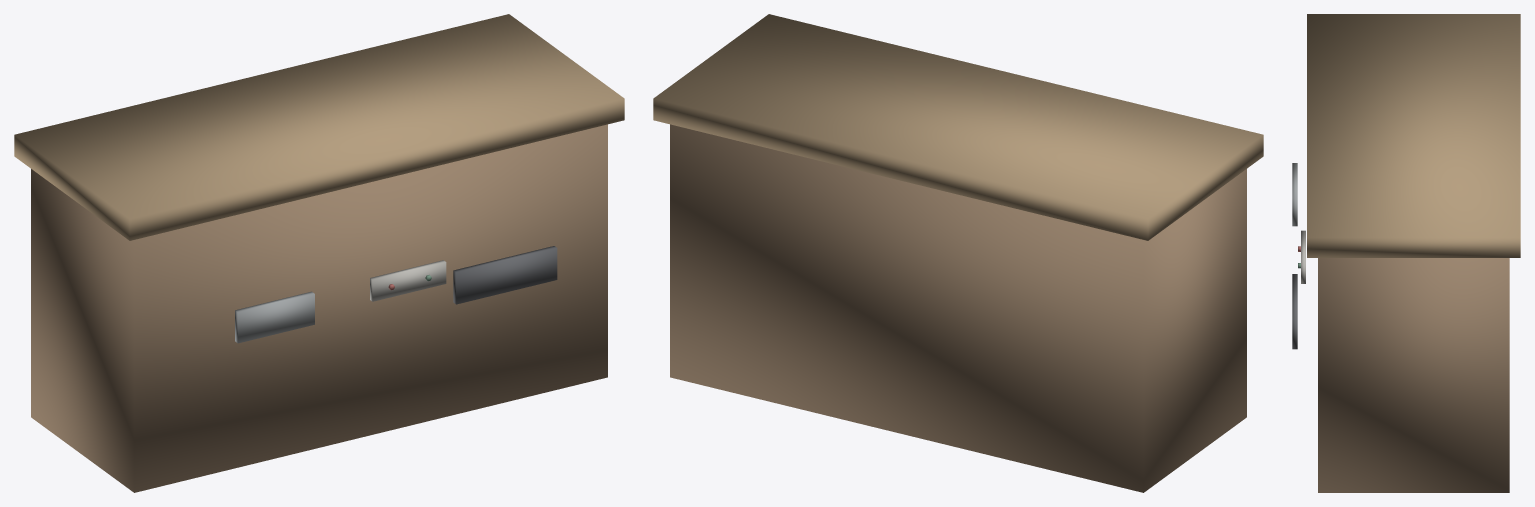
Rendered from bank_teller_counter__weathered.glb.
The picture shows the model from 3 angles, left to right: view 1: azimuth 30°, elevation 25°; view 2: azimuth 150°, elevation 25°; view 3: azimuth 270°, elevation 25°; orthographic projection. The views are drawn at different scales.
Parts seen in each view (by area): view 1: world; view 2: world; view 3: world.
Part boxes in pixels (left/top/right/bottom): world: left=14, top=14, right=624, bottom=492; world: left=653, top=14, right=1263, bottom=492; world: left=1292, top=14, right=1520, bottom=492.
Size of the model in its own units: 1.88 by 1.02 by 0.812.
